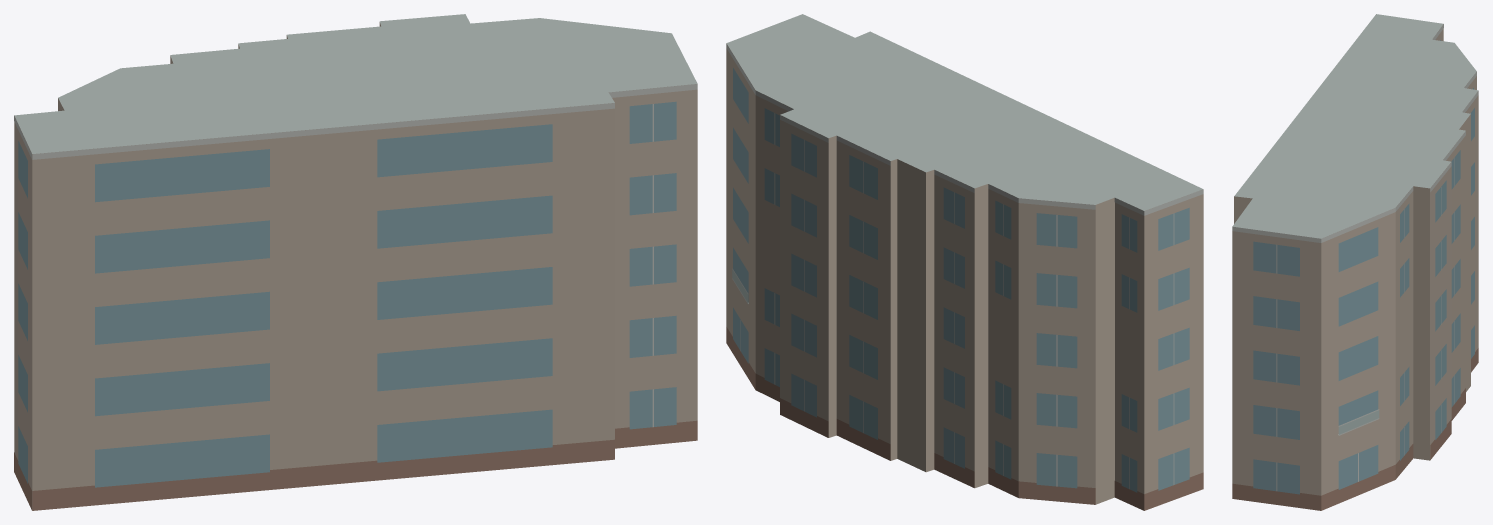
The model's file is survey-upis-32564129.glb.
3 views of the same model, side by side, from view 1: azimuth 30°, elevation 25°; view 2: azimuth 150°, elevation 25°; view 3: azimuth 270°, elevation 25° (orthographic). The views are drawn at different scales.
Parts seen in each view (by area): view 1: survey-upis-32564129.tmp; view 2: survey-upis-32564129.tmp; view 3: survey-upis-32564129.tmp.
Part boxes in pixels (bbox=[...]): survey-upis-32564129.tmp: bbox=[14, 14, 697, 510]; survey-upis-32564129.tmp: bbox=[726, 14, 1203, 510]; survey-upis-32564129.tmp: bbox=[1232, 14, 1478, 510].
Bounding box in the file's own units: 26.75 × 15.1 × 12.4.
